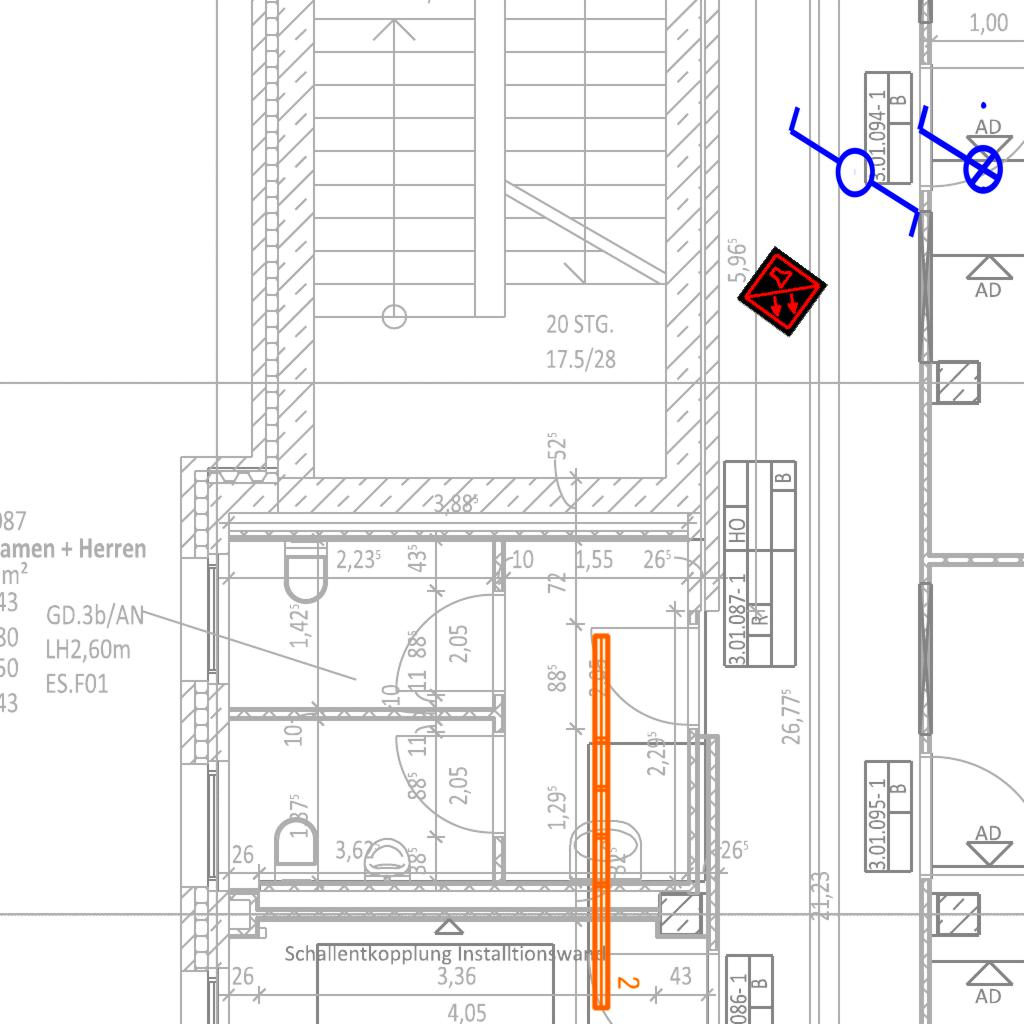Ambulanz_Pendelleuchte_LED: (586, 628, 642, 1015)
Ausschalter_beleuchtet: (909, 96, 1005, 208)
OKW_Multisensormelder_(Kombination_optischer_Rauch-Kahlenmonoxid_Waerme-Melder): (735, 245, 829, 339)
Wechselschalter: (781, 102, 925, 259)
